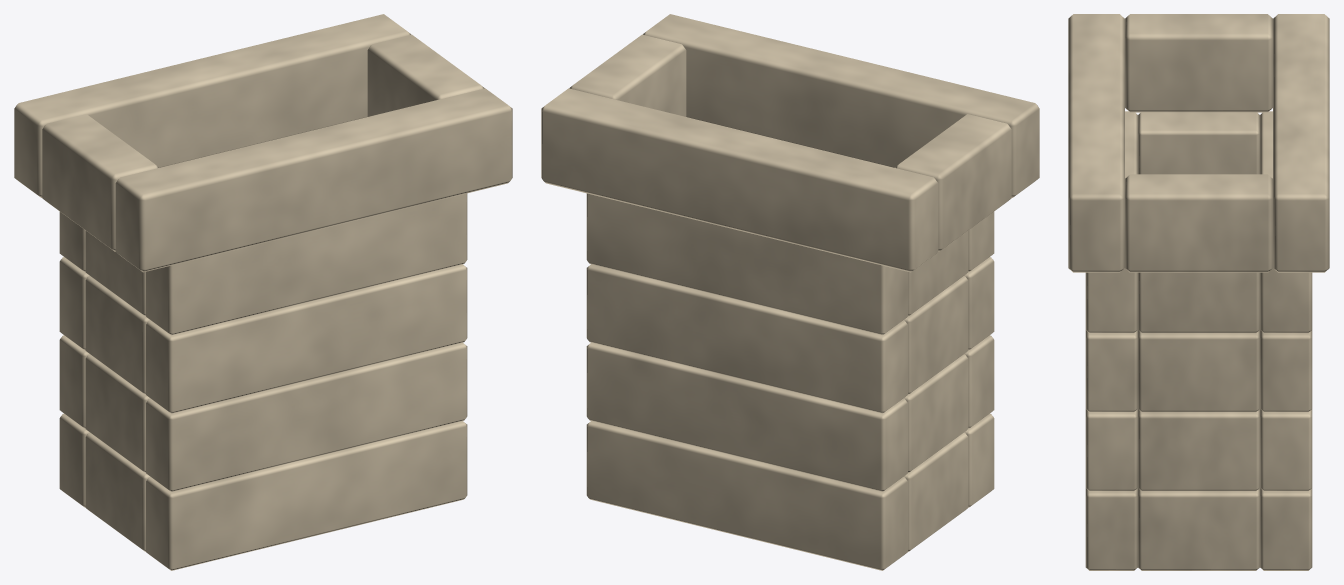
File: Furn_Chimney.fbx
3 views of the same model, side by side, from view 1: azimuth 30°, elevation 25°; view 2: azimuth 150°, elevation 25°; view 3: azimuth 270°, elevation 25° (orthographic).
Parts seen in each view (by area): view 1: Furn_Chimney_Mesh; view 2: Furn_Chimney_Mesh; view 3: Furn_Chimney_Mesh.
Part boxes in pixels (x1,y1,x2,y2): Furn_Chimney_Mesh: (14, 14, 512, 570); Furn_Chimney_Mesh: (541, 14, 1039, 570); Furn_Chimney_Mesh: (1068, 14, 1329, 570).
Bounding box in the file's own units: 1 × 1 × 0.6.
Materials: 2 (2 with a texture image).
